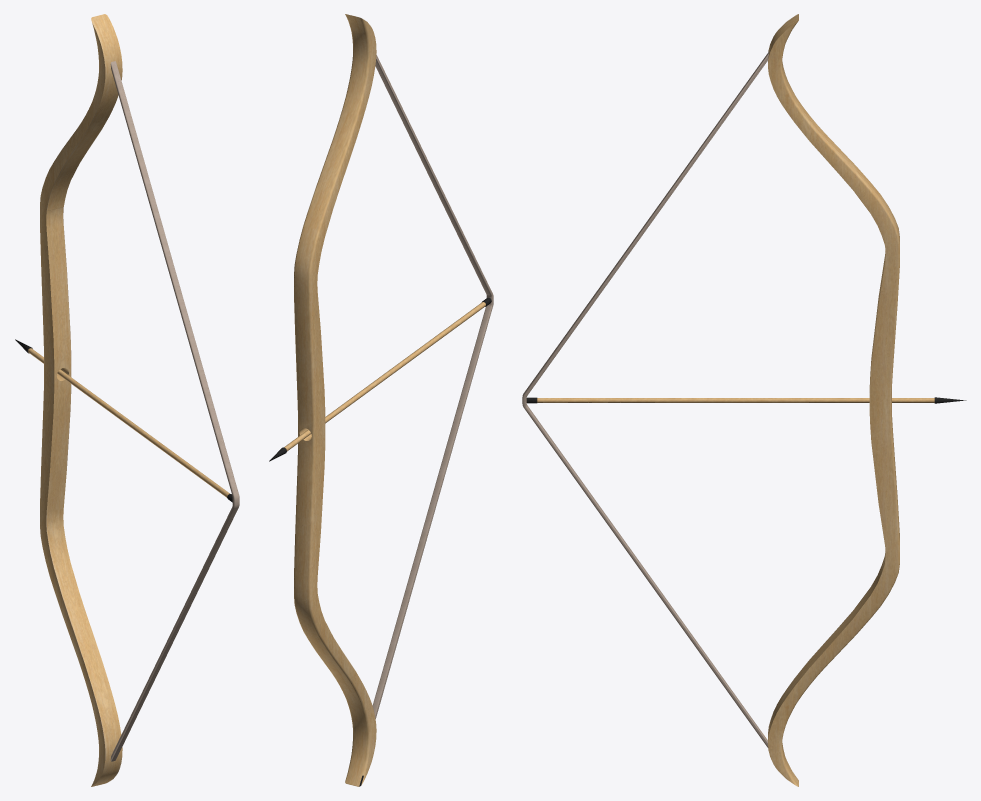
Rendered from bow.obj.
3 renders of one model, left to right at view 1: azimuth 30°, elevation 25°; view 2: azimuth 150°, elevation 25°; view 3: azimuth 270°, elevation 25°, orthographic.
Visible parts, largest first — view 1: bow, arrow; view 2: bow, arrow; view 3: bow, arrow.
Part boxes in pixels (bbox=[...]): bow: bbox=[40, 14, 239, 786]; arrow: bbox=[15, 339, 232, 502]; bow: bbox=[294, 14, 493, 786]; arrow: bbox=[269, 297, 491, 461]; bow: bbox=[522, 14, 899, 786]; arrow: bbox=[526, 397, 966, 403].
Bounding box in the file's own units: 0.0233 × 0.9991 × 0.5247.
1 material, 1 textured.
